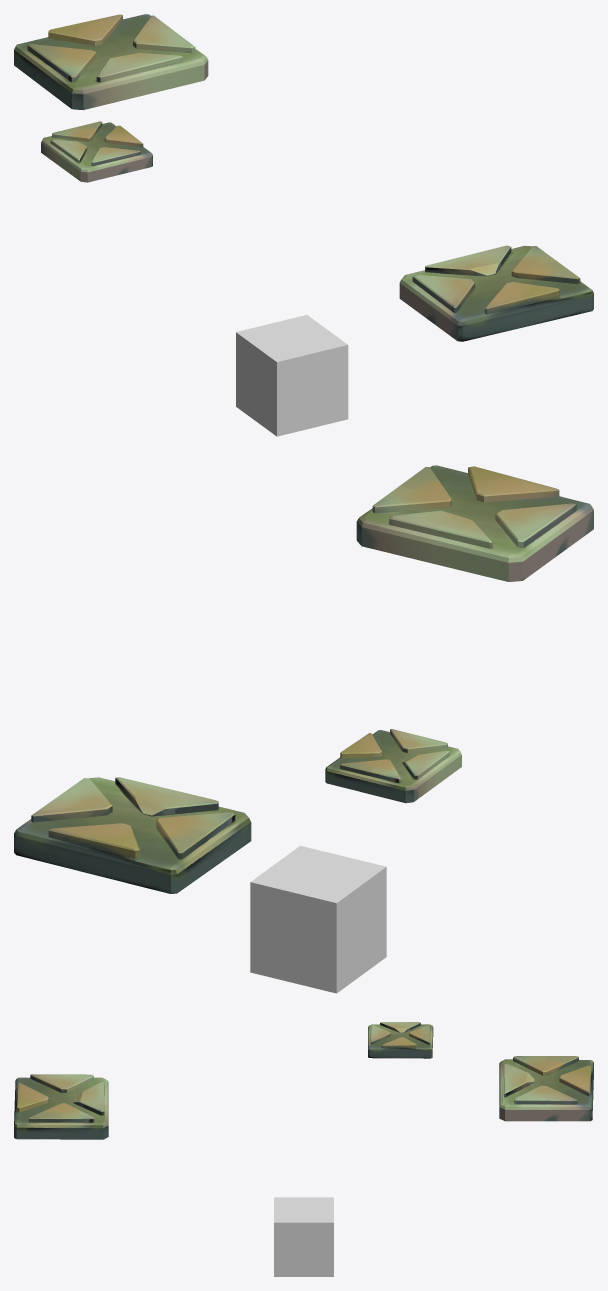
The model's file is battlescence-2-floor007.fbx.
The picture shows the model from 3 angles, top to bottom: view 1: azimuth 30°, elevation 25°; view 2: azimuth 150°, elevation 25°; view 3: azimuth 270°, elevation 25°; orthographic projection. The views are drawn at different scales.
Parts seen in each view (by area): view 1: Plane.035, Plane.010, battlescence-2-floor007, Plane.007; view 2: Plane.010, Plane.035, battlescence-2-floor007, Plane.007; view 3: Plane.010, Plane.035, battlescence-2-floor007, Plane.007.
Part boxes in pixels (left/top/right/bottom): Plane.035: left=14, top=14, right=208, bottom=110; Plane.010: left=399, top=245, right=593, bottom=341; battlescence-2-floor007: left=236, top=315, right=348, bottom=436; Plane.007: left=41, top=121, right=152, bottom=182; Plane.010: left=356, top=465, right=593, bottom=581; Plane.035: left=14, top=777, right=251, bottom=893; battlescence-2-floor007: left=250, top=845, right=386, bottom=993; Plane.007: left=325, top=729, right=461, bottom=803; Plane.010: left=14, top=1074, right=108, bottom=1139; Plane.035: left=499, top=1056, right=593, bottom=1121; battlescence-2-floor007: left=274, top=1197, right=333, bottom=1276; Plane.007: left=368, top=1022, right=433, bottom=1058.
Size of the model in its own units: 761 by 684 by 1938.
